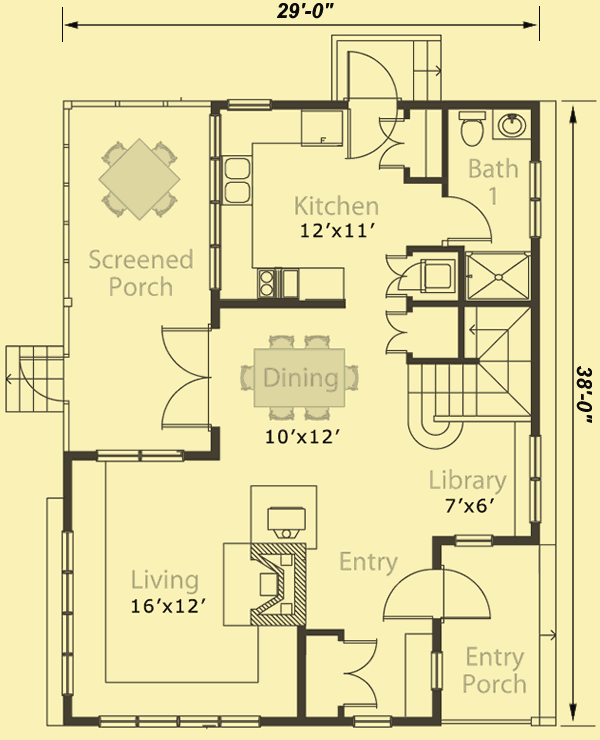dining_table: (233, 331, 361, 426), (98, 138, 180, 221)
door: (160, 323, 210, 429), (347, 98, 403, 160), (345, 48, 403, 106), (440, 561, 494, 623), (380, 566, 437, 620), (440, 190, 493, 241), (340, 640, 380, 707), (382, 252, 407, 302), (385, 310, 407, 357)
large_sink: (459, 108, 489, 153)
small_sink: (494, 110, 531, 146)
stairs: (407, 359, 530, 450)
twin_sink: (220, 153, 254, 213)
window: (57, 531, 78, 699), (206, 113, 225, 292), (96, 712, 260, 729), (90, 448, 183, 463), (528, 161, 545, 240), (225, 97, 276, 114), (351, 714, 396, 730), (429, 650, 445, 692), (455, 532, 496, 548)
